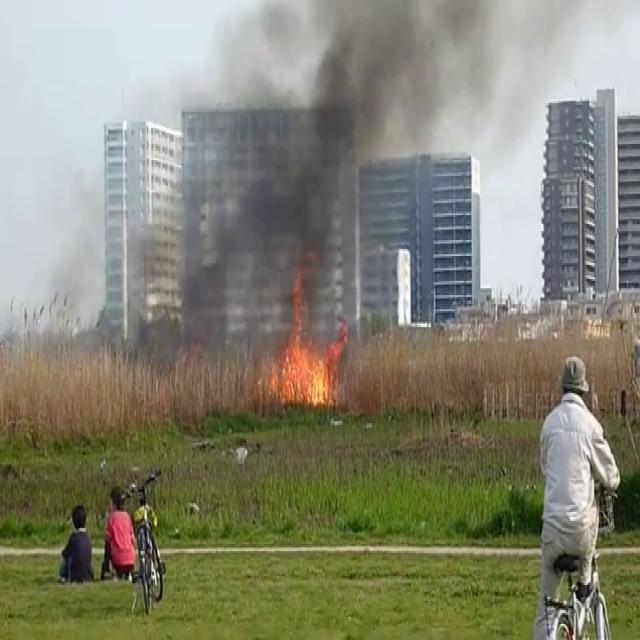Fire: (266, 297, 346, 416)
Smoke: (158, 0, 542, 352), (171, 0, 408, 357)
